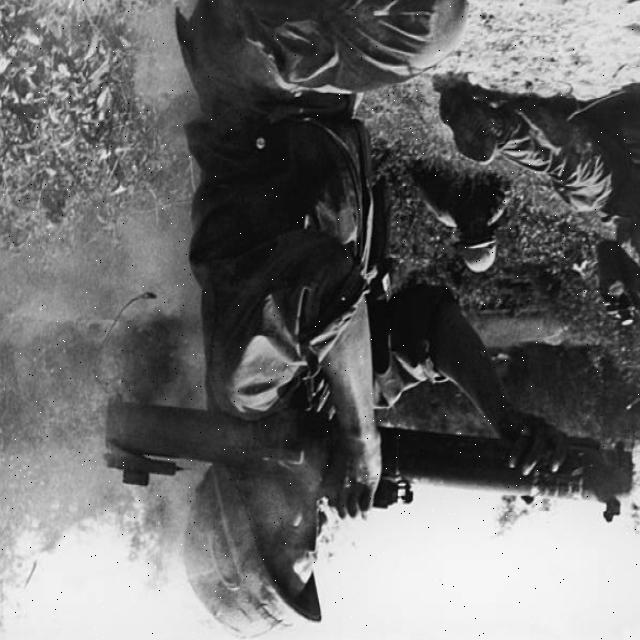bazooka: (107, 398, 638, 509)
